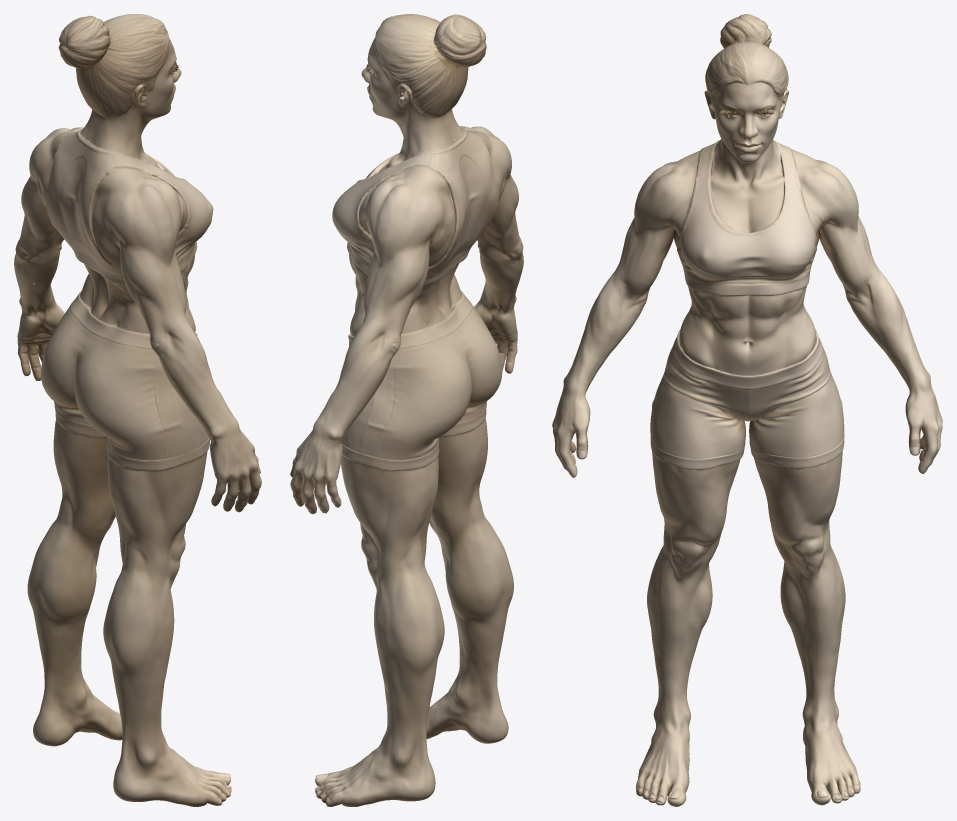
File: fitcheck-sculpture-female-from-reference-v1.glb
The picture shows the model from 3 angles, left to right: view 1: azimuth 30°, elevation 25°; view 2: azimuth 150°, elevation 25°; view 3: azimuth 270°, elevation 25°; orthographic projection. The views are drawn at different scales.
Visible parts, largest first — view 1: tripo_node_a89c0d6c-7d93-4377-9448-19fe145daedf; view 2: tripo_node_a89c0d6c-7d93-4377-9448-19fe145daedf; view 3: tripo_node_a89c0d6c-7d93-4377-9448-19fe145daedf.
Part boxes in pixels (x1,y1,x2,y2): tripo_node_a89c0d6c-7d93-4377-9448-19fe145daedf: (14, 14, 261, 806); tripo_node_a89c0d6c-7d93-4377-9448-19fe145daedf: (290, 14, 523, 806); tripo_node_a89c0d6c-7d93-4377-9448-19fe145daedf: (552, 14, 942, 806).
Bounding box in the file's own units: 0.1768 × 0.9808 × 0.4656.
Materials: 1 (1 with a texture image).
